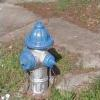Hydrant: (17, 14, 68, 98)
